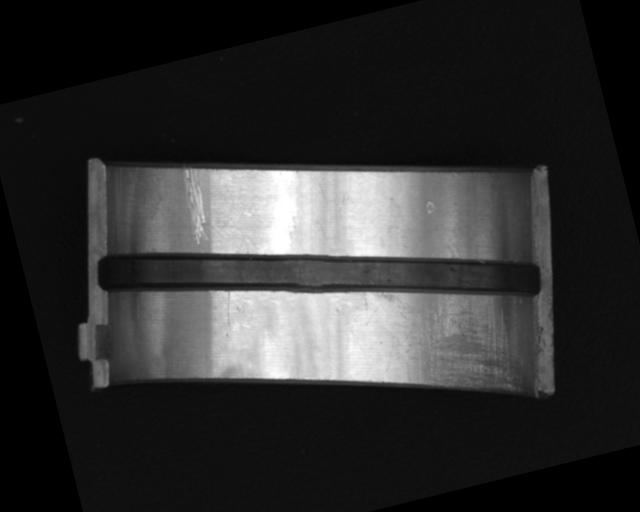bruise: (423, 200, 436, 215)
gap: (90, 155, 545, 397)
nick: (175, 163, 215, 248), (212, 288, 240, 339)
scratch: (371, 259, 536, 422)
